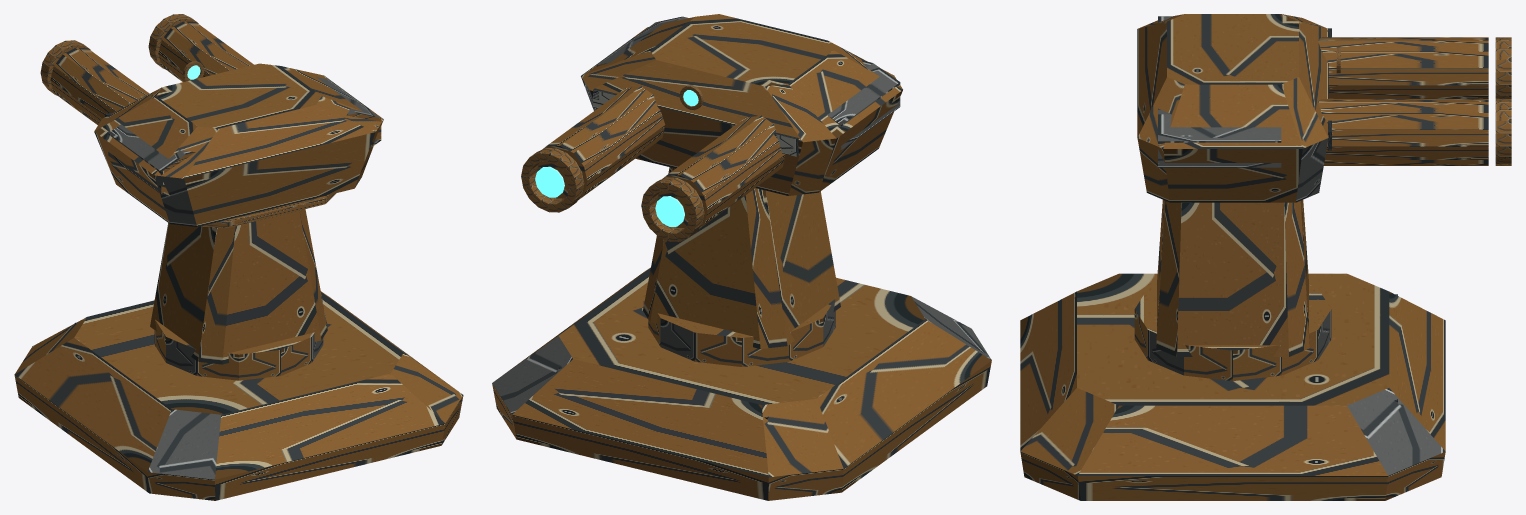
File: fixed_fusion.glb
The picture shows the model from 3 angles, left to right: view 1: azimuth 30°, elevation 25°; view 2: azimuth 150°, elevation 25°; view 3: azimuth 270°, elevation 25°; orthographic projection. The views are drawn at different scales.
Parts seen in each view (by area): view 1: STProp_fixed_fusion_Body, STProp_fixed_fusion_HeadMesh; view 2: STProp_fixed_fusion_Body, STProp_fixed_fusion_HeadMesh; view 3: STProp_fixed_fusion_Body, STProp_fixed_fusion_HeadMesh.
Part boxes in pixels (x1,y1,x2,y2): STProp_fixed_fusion_Body: (14,209,463,500); STProp_fixed_fusion_HeadMesh: (40,14,383,227); STProp_fixed_fusion_Body: (492,167,991,500); STProp_fixed_fusion_HeadMesh: (521,14,902,241); STProp_fixed_fusion_Body: (1020,200,1445,500); STProp_fixed_fusion_HeadMesh: (1137,14,1511,202).
Bounding box in the file's own units: 3.16 × 2.99 × 3.65.
4 materials, 3 textured.
